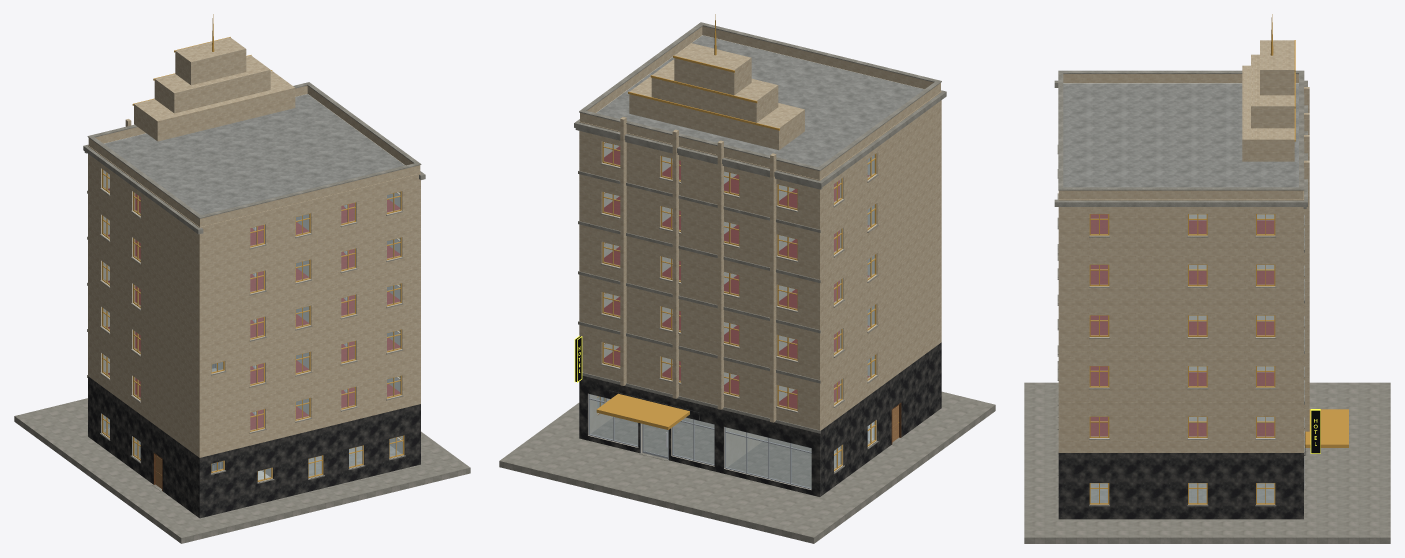
File: b_hotel_artdeco.gltf
3 views of the same model, side by side, from view 1: azimuth 30°, elevation 25°; view 2: azimuth 150°, elevation 25°; view 3: azimuth 270°, elevation 25° (orthographic). The views are drawn at different scales.
Visible parts, largest first — view 1: S_hotel_artdeco; view 2: S_hotel_artdeco, D_hotel_artdeco_F1_S3_Door0; view 3: S_hotel_artdeco.
Boxes of the visible parts, bbox=[...] form: S_hotel_artdeco: bbox=[14, 14, 470, 543]; S_hotel_artdeco: bbox=[499, 14, 995, 543]; D_hotel_artdeco_F1_S3_Door0: bbox=[642, 424, 667, 458]; S_hotel_artdeco: bbox=[1024, 14, 1390, 543].
Bounding box in the file's own units: 21 × 28.6 × 21.
21 materials, 12 textured.
